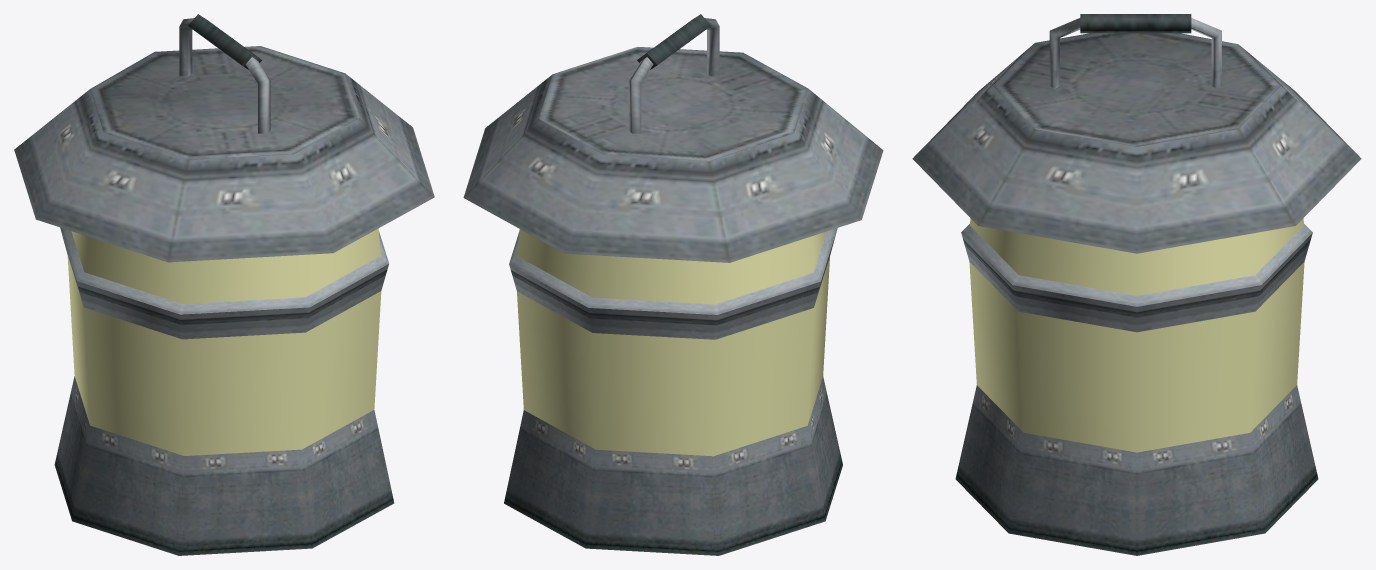
The model's file is frn_all_glow_lantern_s3_l1.fbx.
3 views of the same model, side by side, from view 1: azimuth 30°, elevation 25°; view 2: azimuth 150°, elevation 25°; view 3: azimuth 270°, elevation 25° (orthographic). The views are drawn at different scales.
Parts seen in each view (by area): view 1: mesh_node; view 2: mesh_node; view 3: mesh_node.
Part boxes in pixels (x1=…): mesh_node: x1=14, y1=14, x2=434, y2=555; mesh_node: x1=463, y1=14, x2=883, y2=555; mesh_node: x1=912, y1=14, x2=1361, y2=555.
Bounding box in the file's own units: 0.5612 × 0.6411 × 0.5612.
